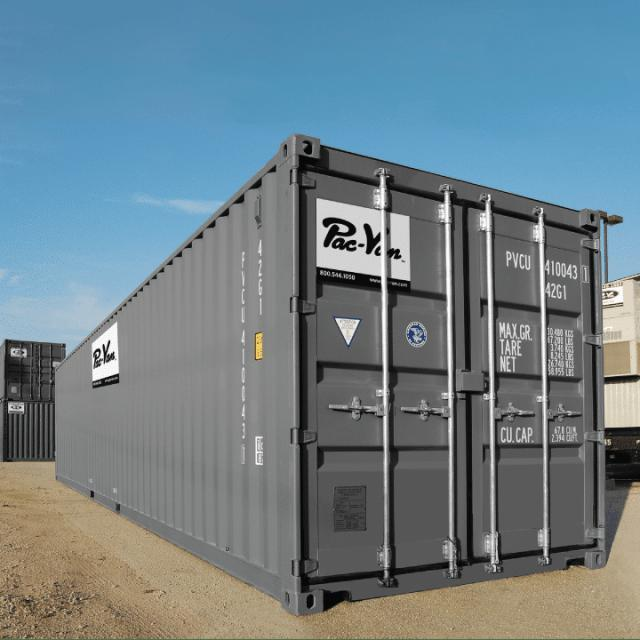ISO: (547, 282, 570, 299)
container_number: (506, 252, 588, 280)
